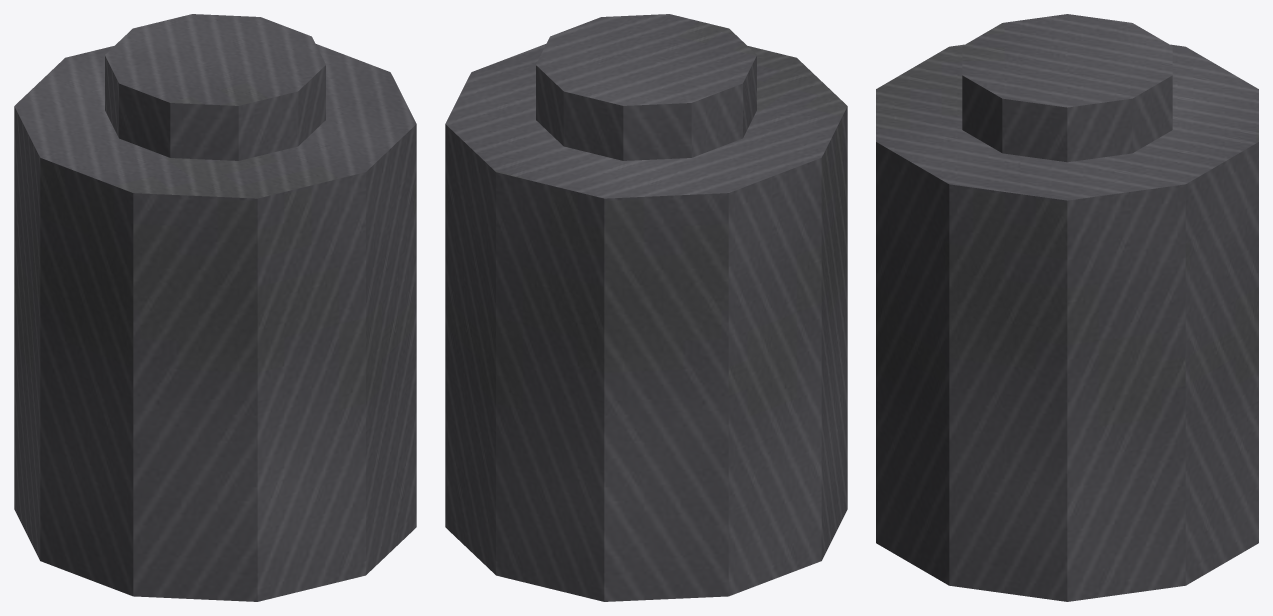
Rendered from trashbag.glb.
The picture shows the model from 3 angles, left to right: view 1: azimuth 30°, elevation 25°; view 2: azimuth 150°, elevation 25°; view 3: azimuth 270°, elevation 25°; orthographic projection.
Visible parts, largest first — view 1: NC_trashbag; view 2: NC_trashbag; view 3: NC_trashbag.
Part boxes in pixels (x1=…): NC_trashbag: x1=14, y1=14, x2=416, y2=601; NC_trashbag: x1=445, y1=14, x2=847, y2=601; NC_trashbag: x1=876, y1=14, x2=1258, y2=601.
Size of the model in its own units: 0.4 by 0.5 by 0.3804.
1 material, 1 textured.
